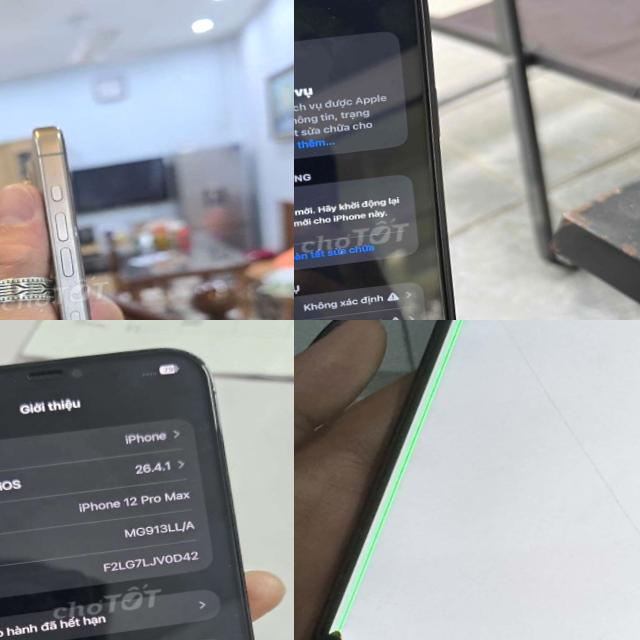screen_defect: (312, 320, 509, 639), (570, 435, 640, 525), (506, 351, 580, 424)
